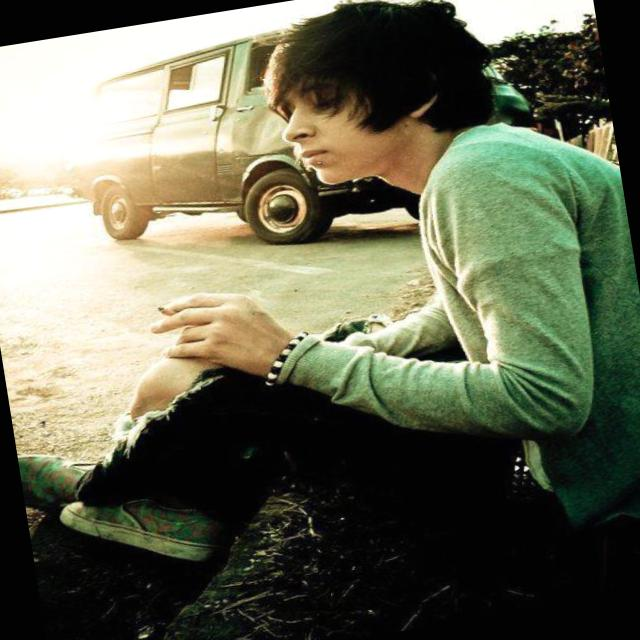cigarette: (152, 294, 189, 324)
